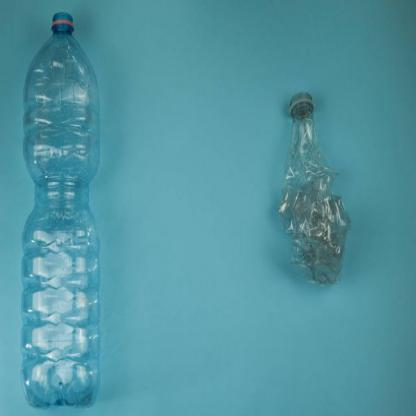bottle: (18, 9, 113, 409), (272, 67, 356, 296)
